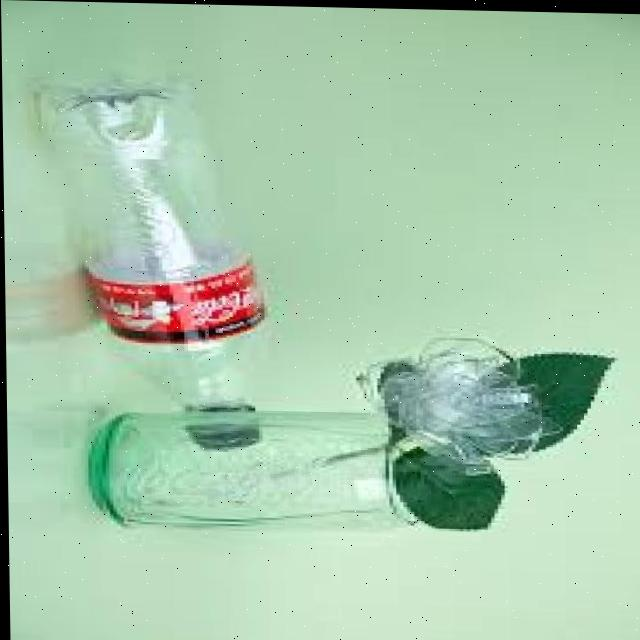bottle: (70, 46, 286, 459)
